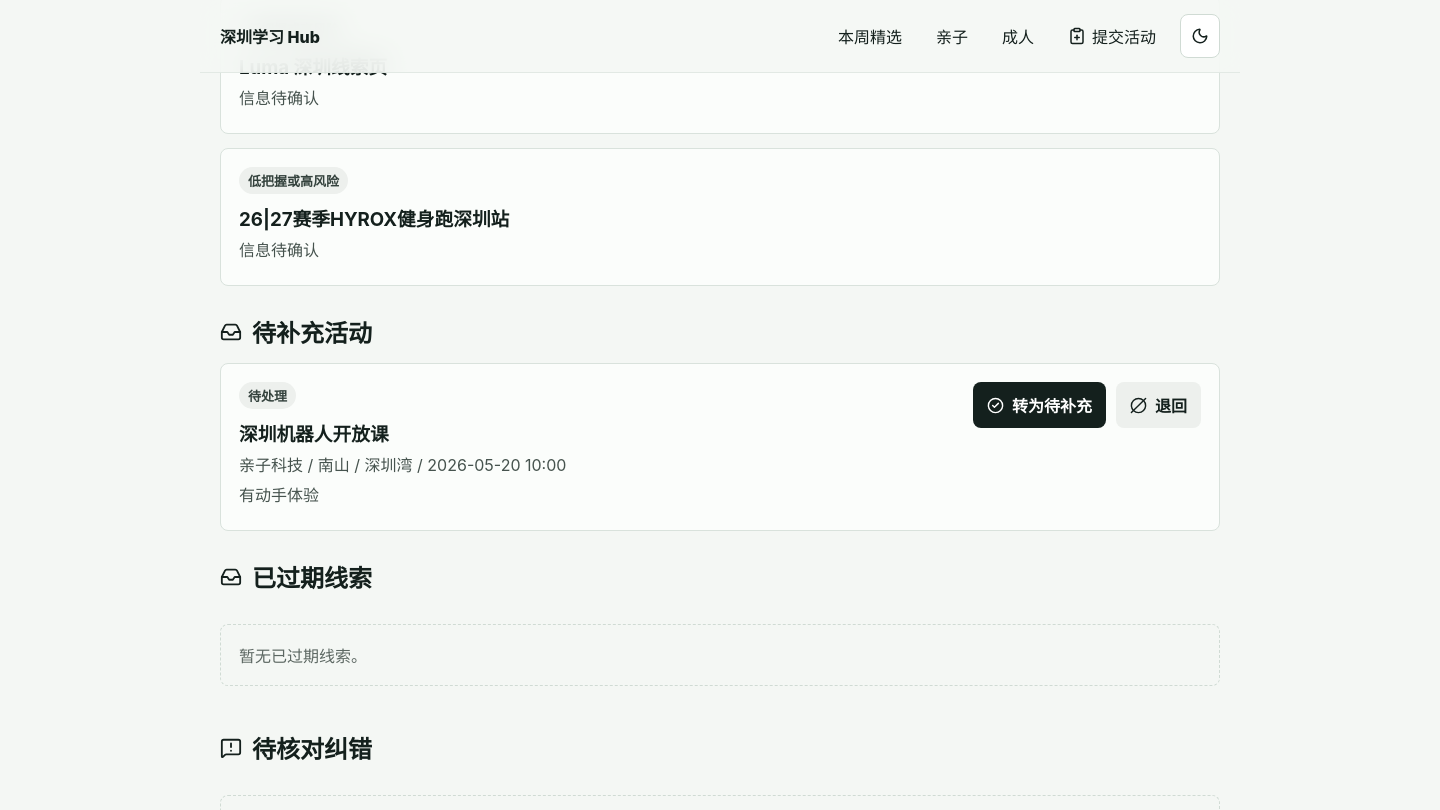
Test: EvaluationAdmin › converts an approved submission into a candidate draft
The image size is (1440, 810).
(page scrolled)
Click the button "转为待补充": (1040, 405) [973,382,1106,428]
(page scrolled)
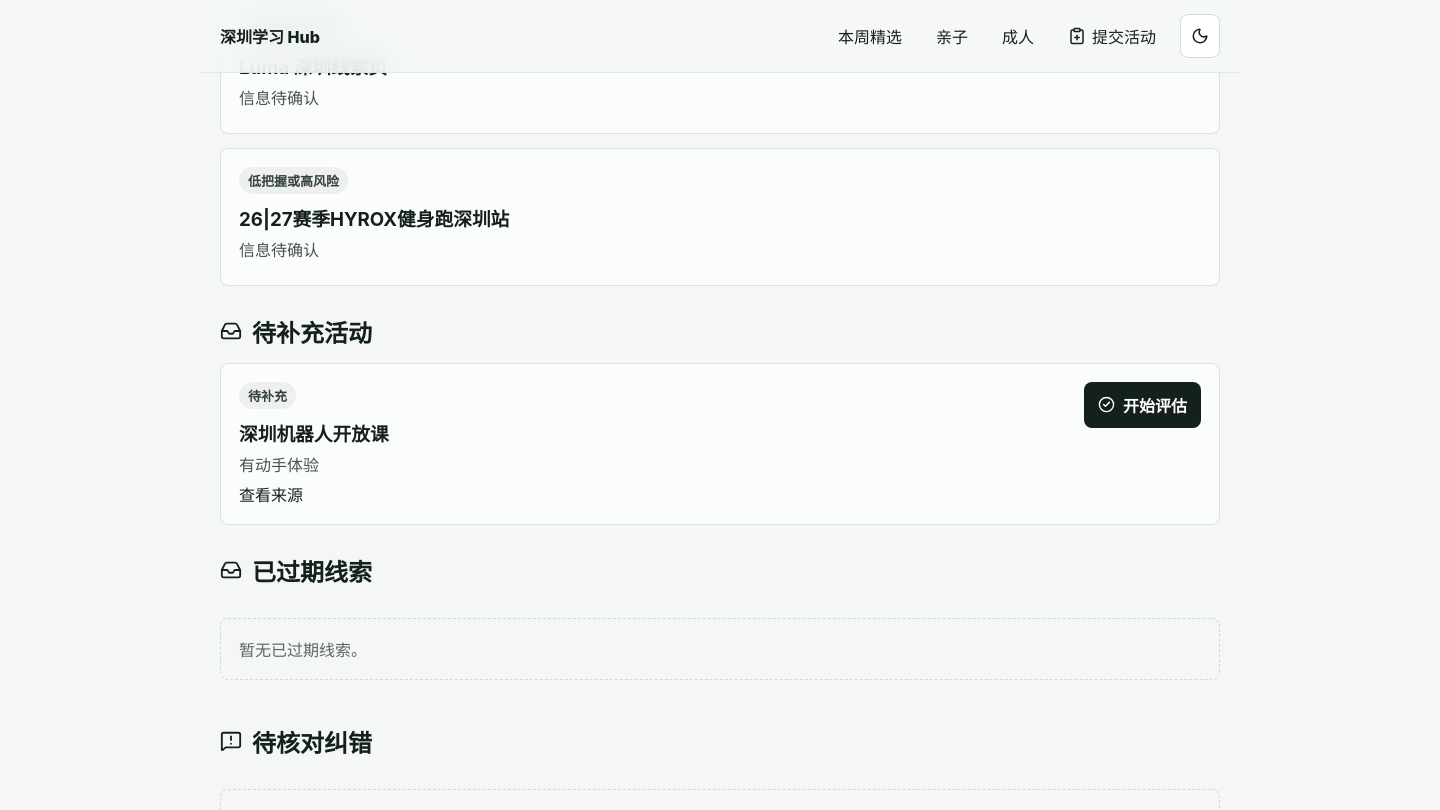
Expected: the heading "深圳机器人开放课" is shown, [239,419,389,446]
Result: the text "待补充" is shown at [239,382,296,409]
